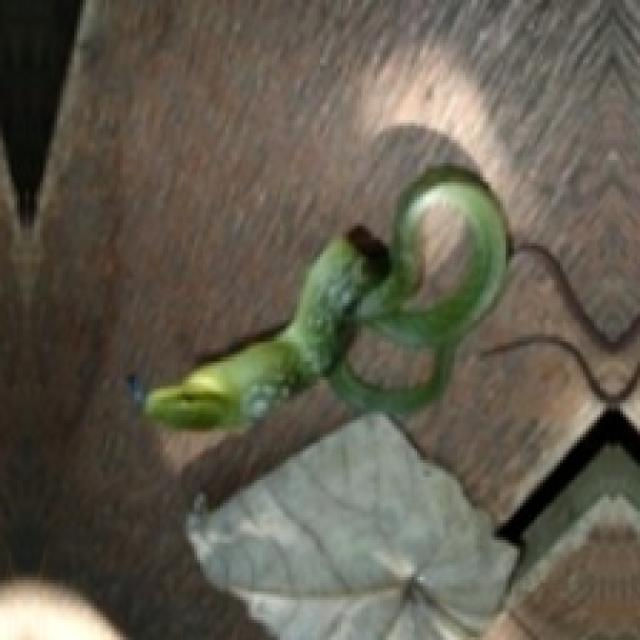red-tailed green ratsnake: (143, 166, 511, 426), (143, 166, 509, 426)
